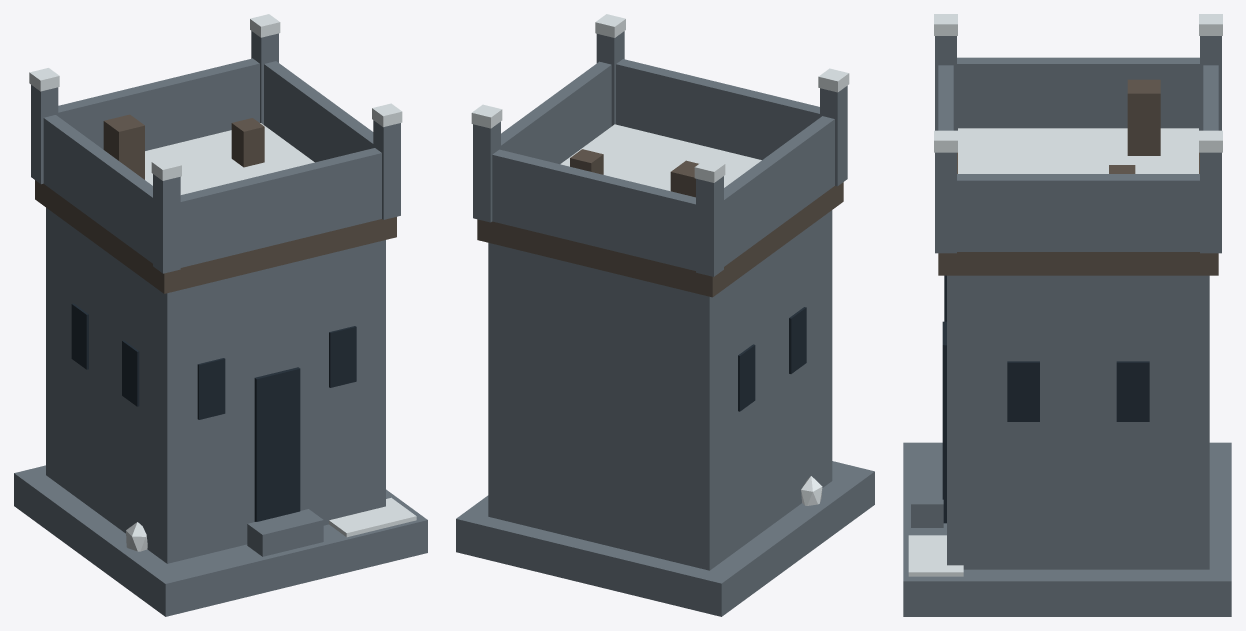
The model's file is barracks.glb.
The picture shows the model from 3 angles, left to right: view 1: azimuth 30°, elevation 25°; view 2: azimuth 150°, elevation 25°; view 3: azimuth 270°, elevation 25°; orthographic projection. The views are drawn at different scales.
Parts seen in each view (by area): view 1: barracks; view 2: barracks; view 3: barracks.
Boxes of the visible parts, bbox=[...] form: barracks: bbox=[14, 14, 427, 616]; barracks: bbox=[456, 14, 874, 616]; barracks: bbox=[903, 14, 1231, 616].
Size of the model in its own units: 1 by 1.58 by 1.
1 material, 1 textured.
